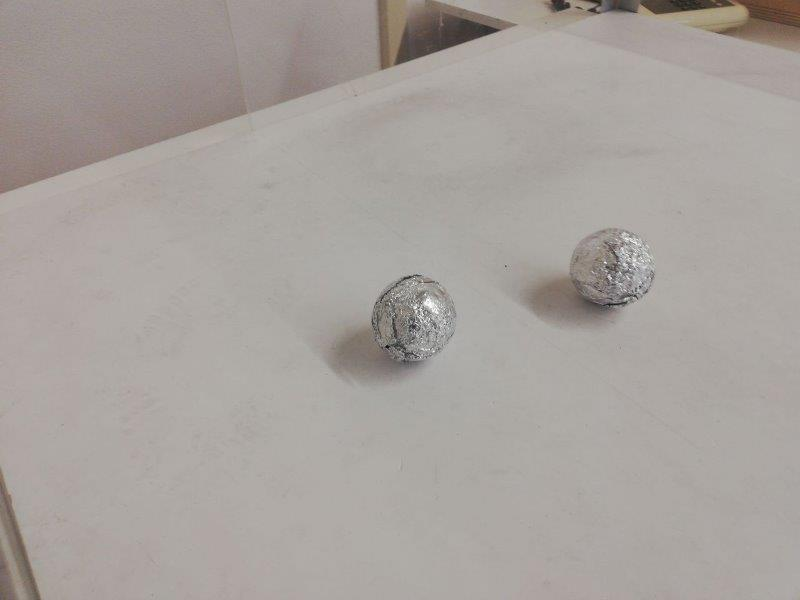bianca: (566, 226, 656, 309), (375, 276, 454, 359)
